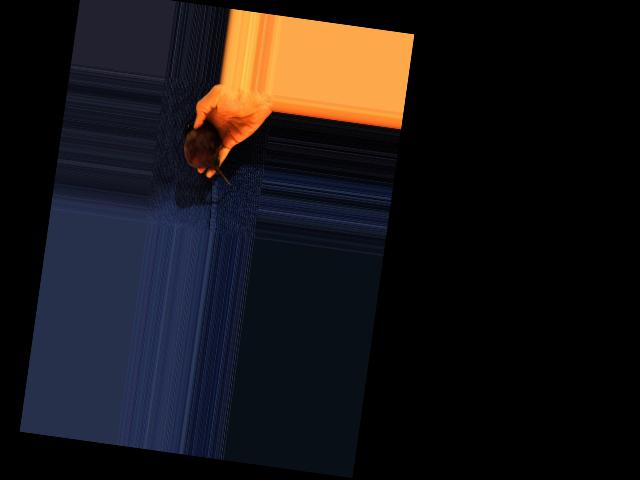beet: (177, 118, 240, 186)
